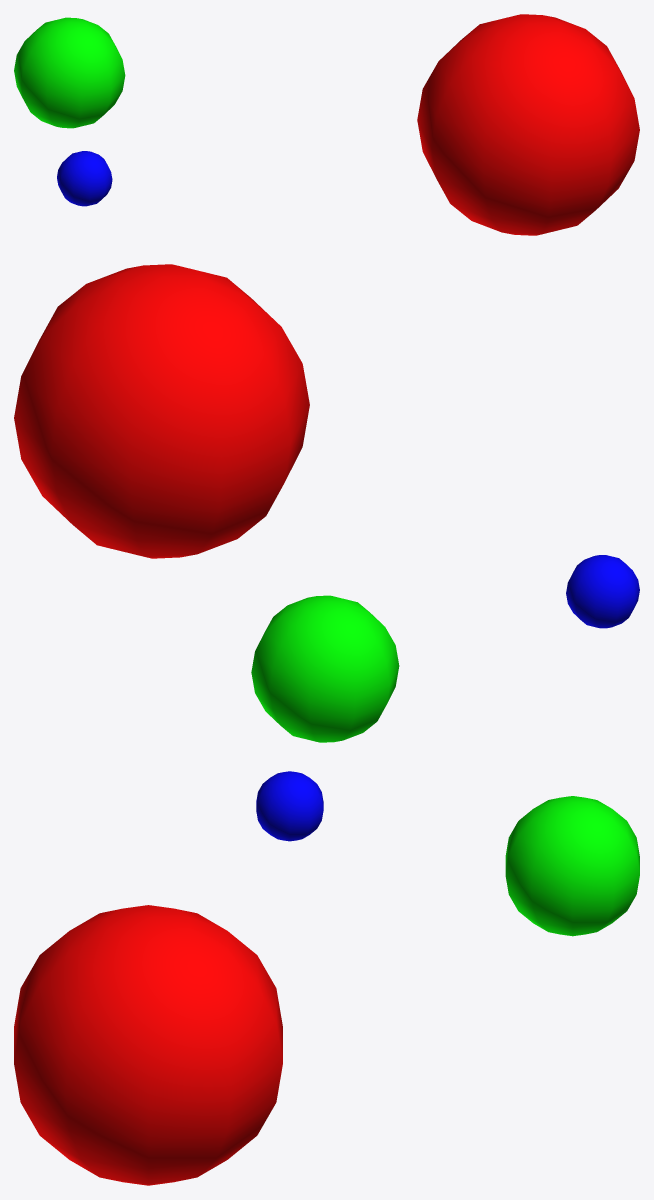
The picture shows the model from 3 angles, top to bottom: view 1: azimuth 30°, elevation 25°; view 2: azimuth 150°, elevation 25°; view 3: azimuth 270°, elevation 25°; orthographic projection. The views are drawn at different scales.
Parts seen in each view (by area): view 1: sphere0, sphere1, sphere2; view 2: sphere0, sphere1, sphere2; view 3: sphere0, sphere1, sphere2.
Boxes of the visible parts, x1=… form: sphere0: x1=417, y1=14, x2=639, y2=235; sphere1: x1=14, y1=17, x2=125, y2=128; sphere2: x1=57, y1=151, x2=112, y2=206; sphere0: x1=14, y1=264, x2=309, y2=558; sphere1: x1=251, y1=595, x2=399, y2=742; sphere2: x1=566, y1=555, x2=639, y2=628; sphere0: x1=14, y1=905, x2=282, y2=1185; sphere1: x1=505, y1=796, x2=639, y2=936; sphere2: x1=256, y1=771, x2=323, y2=841.
Bounding box in the file's own units: 5.25 × 2 × 4.43.
